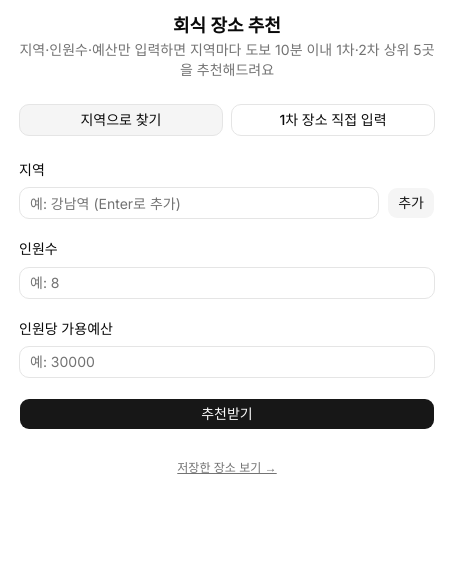
RecommendForm › 지역·인원수·예산을 비운 채 추천받기를 누르면 입력해주세요 안내가 표시되고 이동하지 않는다
Click the button "추천받기": click(227, 414) [19,398,435,430]
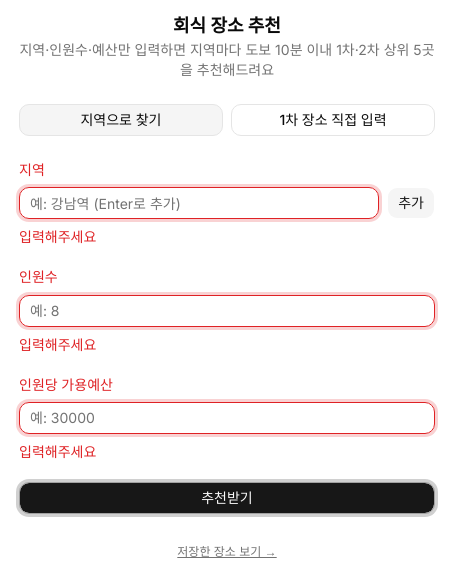
Expected: the text "입력해주세요" is shown 3 times, [19,228,96,245]; [19,336,96,352]; [19,443,96,460]
